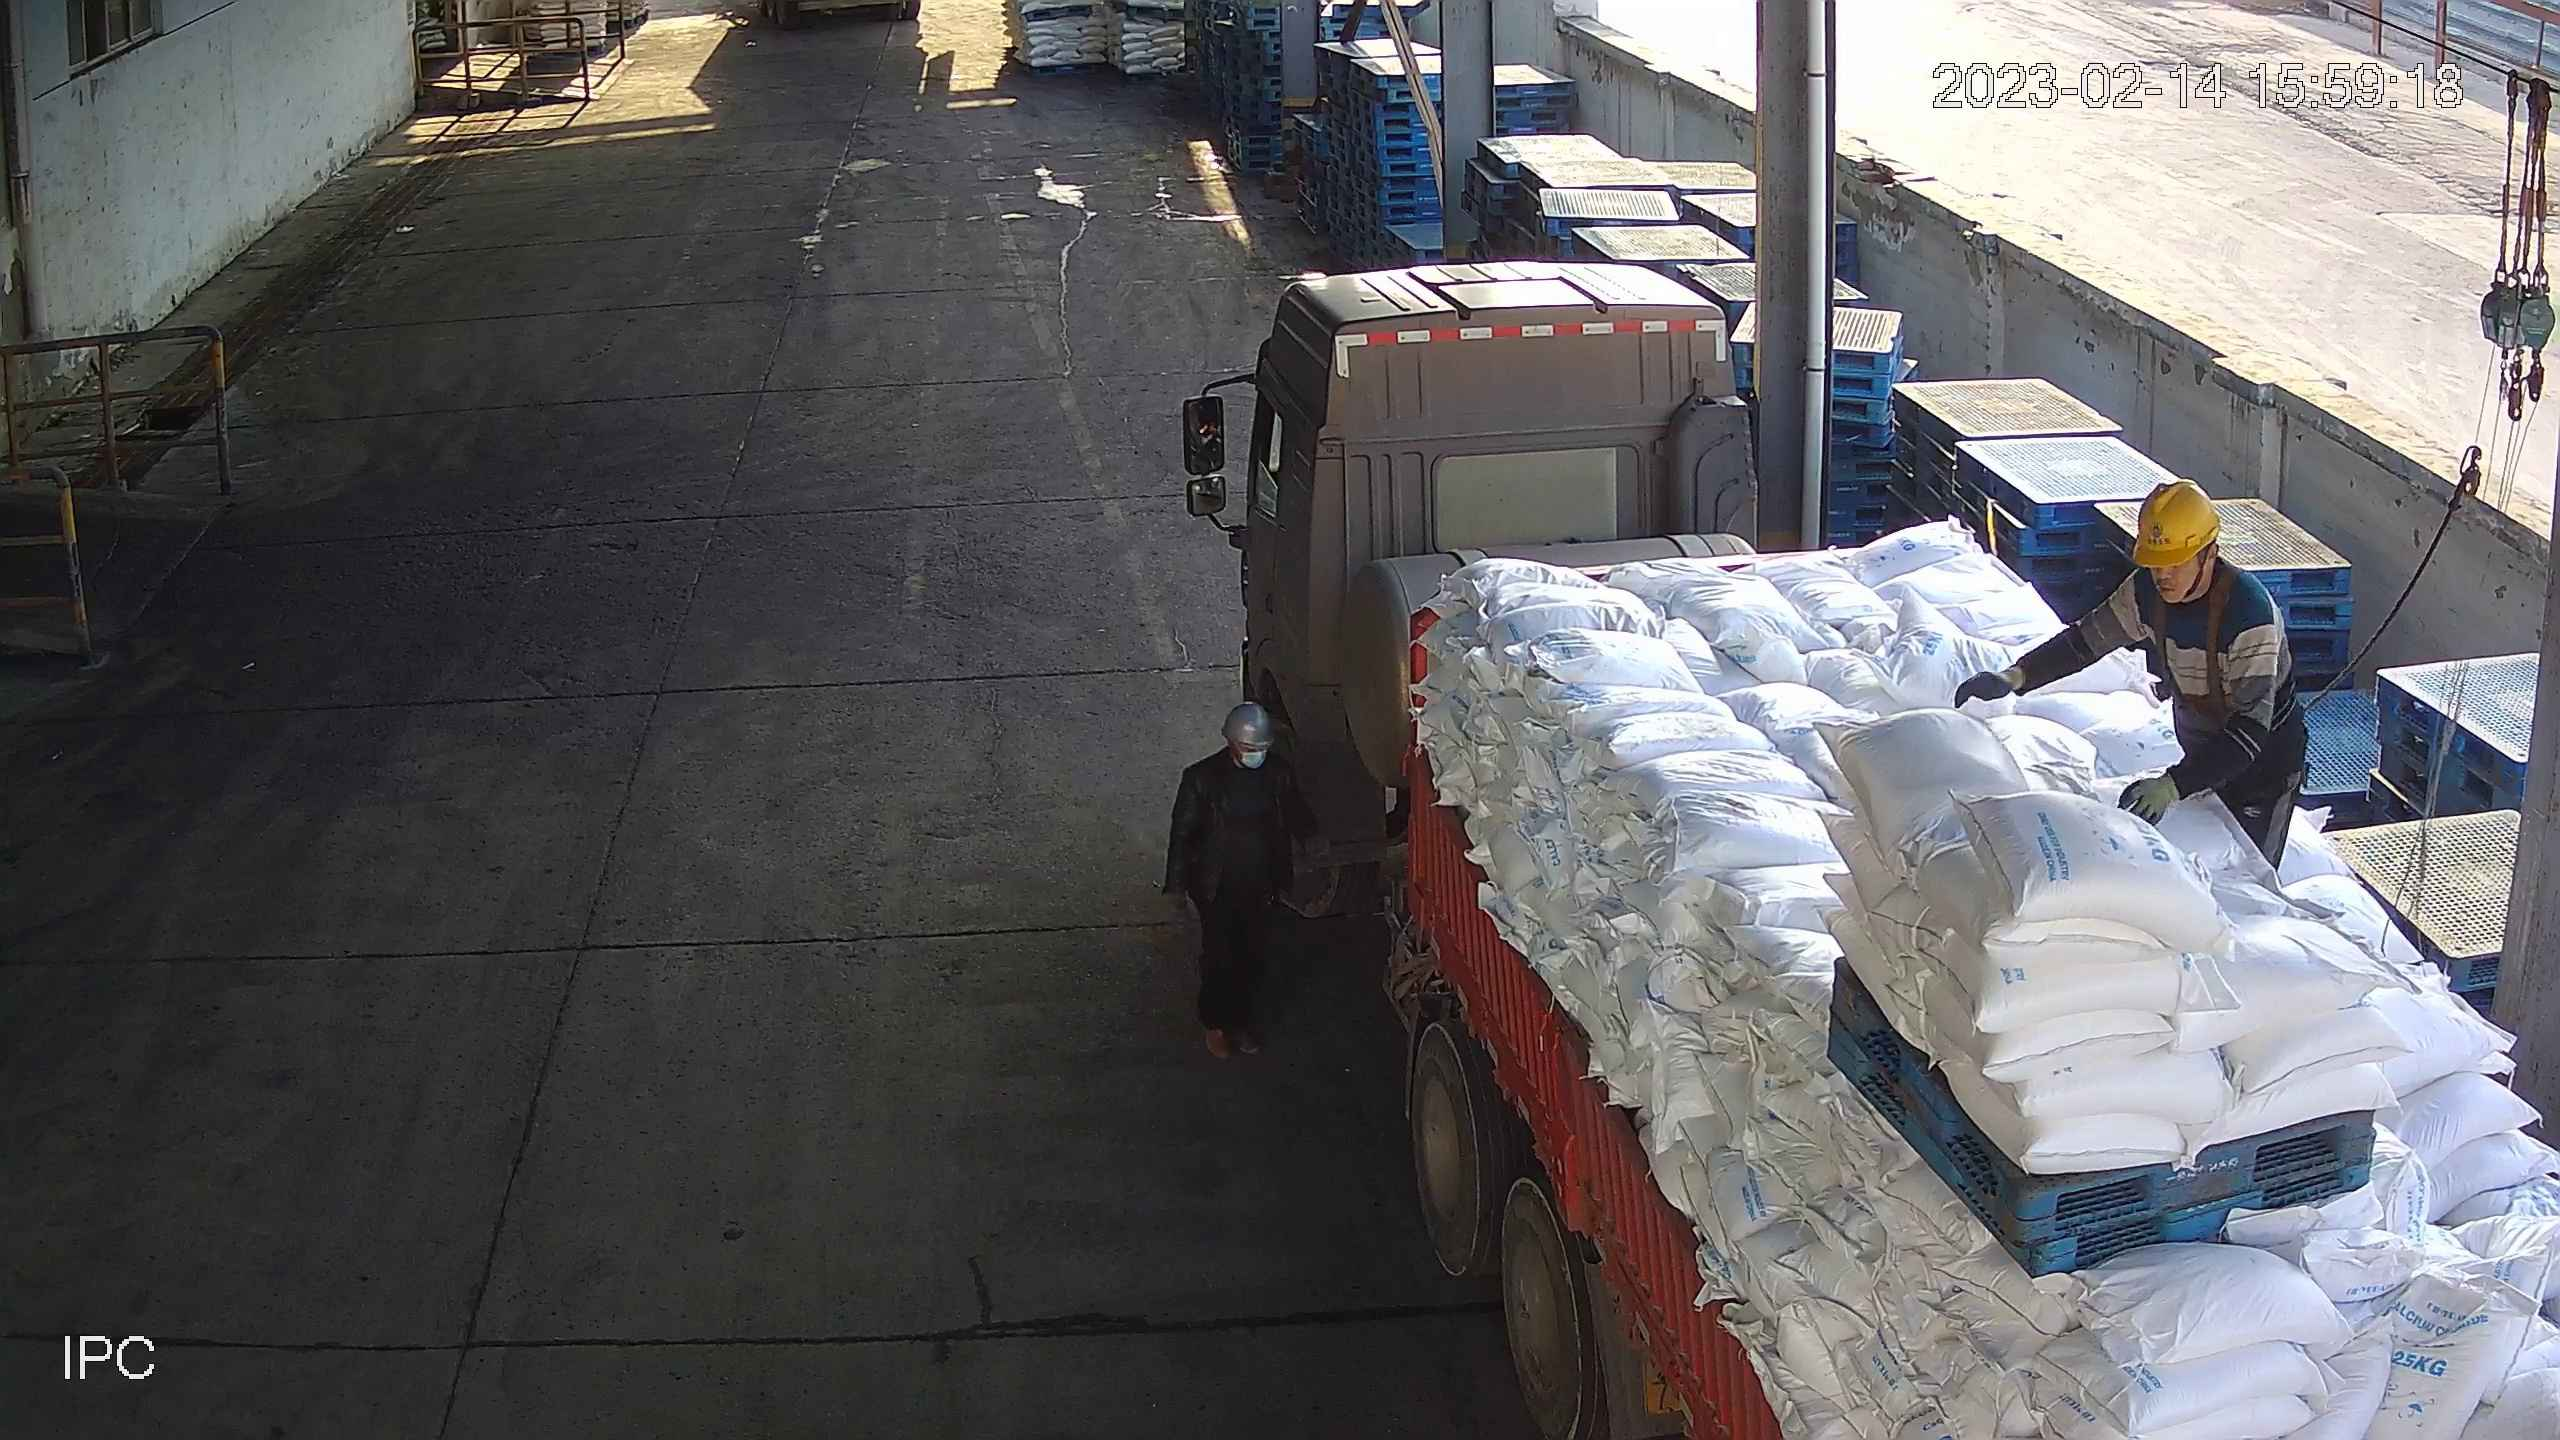belt: (2130, 594, 2281, 739)
head: (2057, 479, 2288, 661), (1169, 698, 1310, 832)
helmet: (2132, 481, 2227, 571), (1222, 698, 1281, 754)
people: (1954, 479, 2312, 884), (1164, 700, 1318, 1067)
truck: (1181, 259, 2560, 1440)
